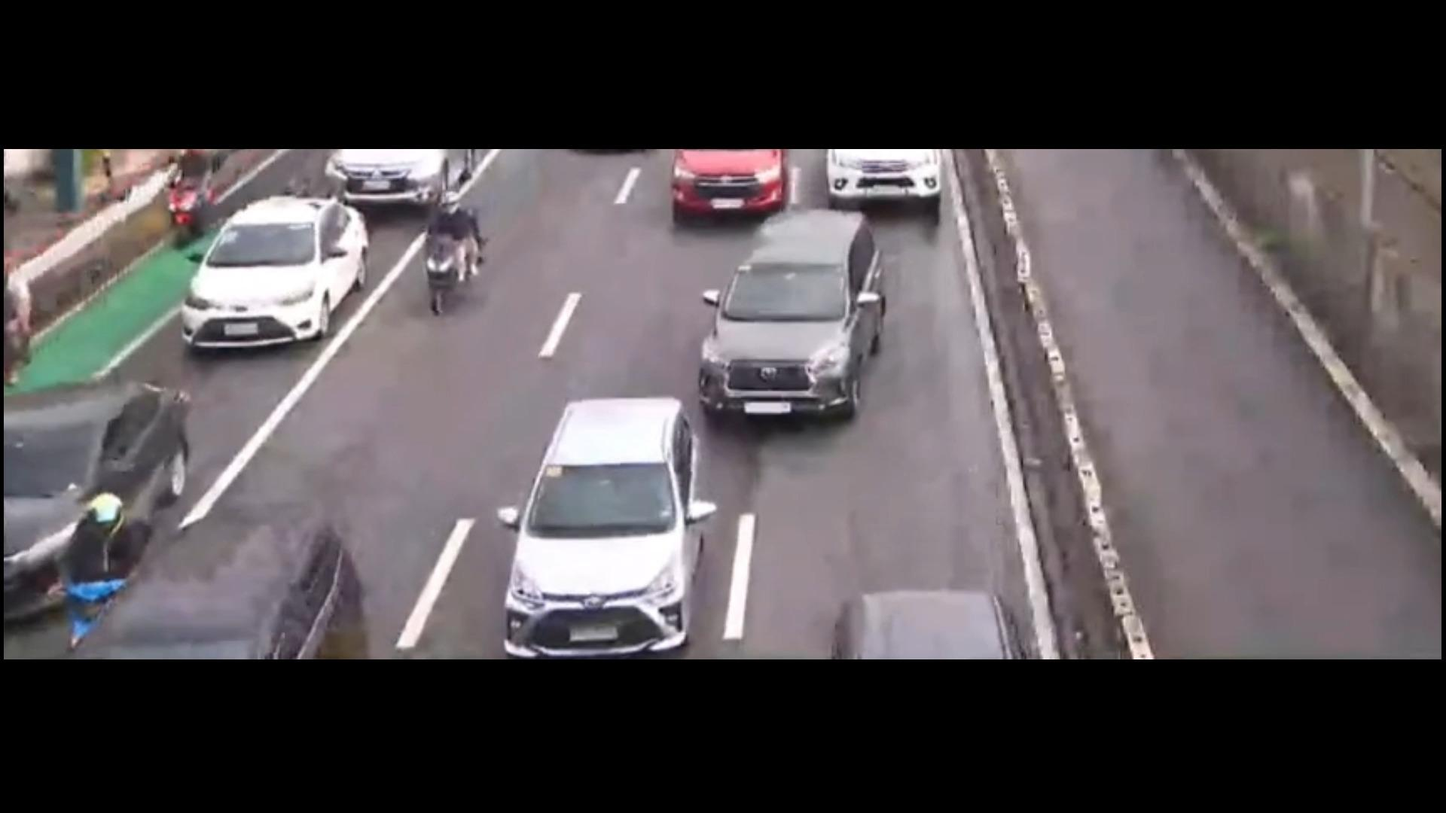Motorcycle: (402, 183, 511, 337), (57, 473, 147, 621), (159, 147, 234, 247)
SUV: (487, 397, 725, 658), (75, 473, 366, 667), (704, 207, 910, 425)
Sedan: (0, 358, 196, 608), (171, 177, 388, 365)
